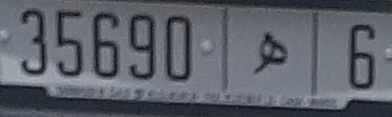0: (163, 13, 195, 84)
3: (17, 6, 49, 77)
5: (55, 7, 85, 80)
6: (347, 21, 377, 92), (92, 10, 121, 80)
9: (126, 13, 158, 82)
h: (249, 29, 290, 80)
